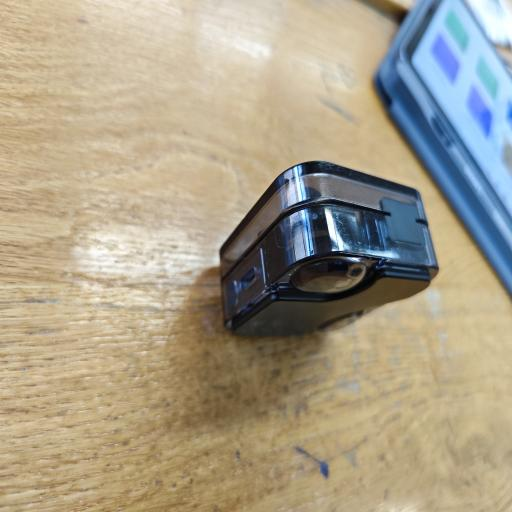CASTI: (214, 154, 442, 342)
